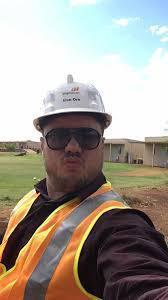helmet: (33, 74, 114, 131)
